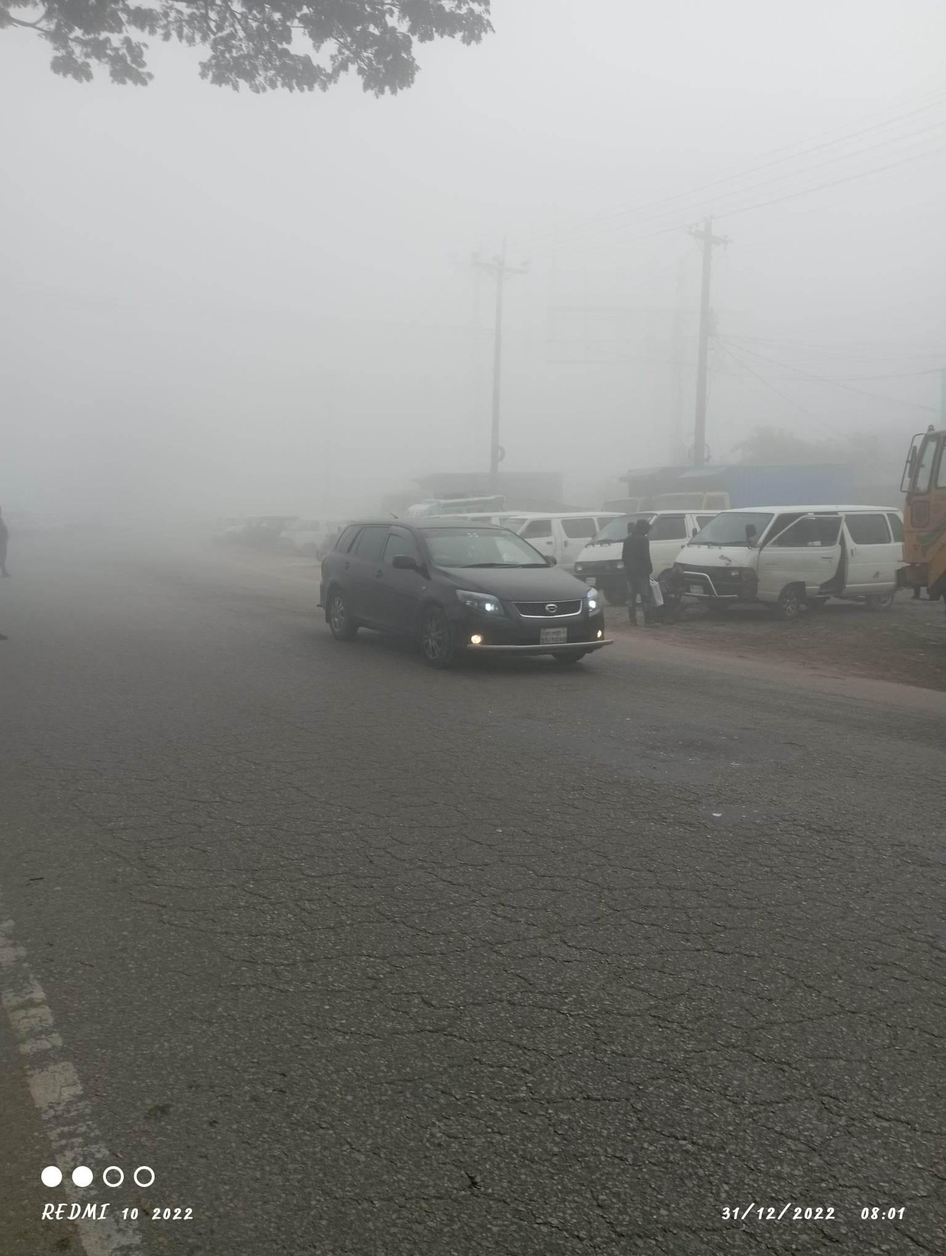Car: (313, 506, 614, 706), (663, 504, 926, 621), (515, 499, 681, 603)
